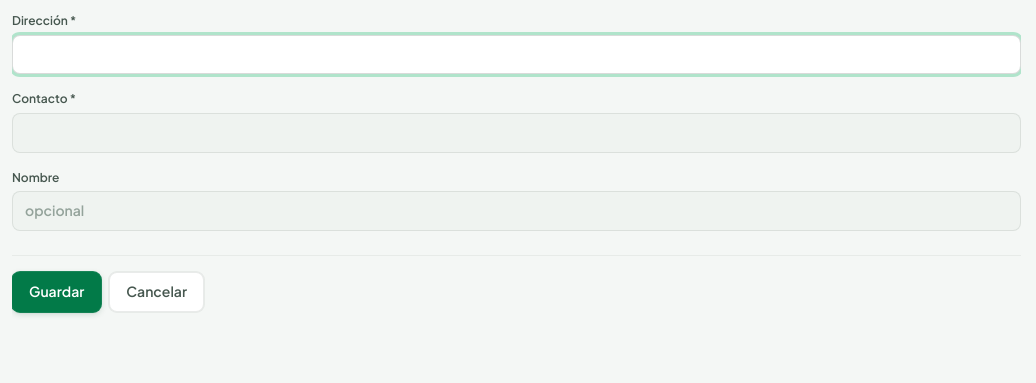
ClienteForm › exige dirección
What coordinates should you click on to do the following:
click the button "Guardar"
I would click on:
 (57, 292)
Its box is [12,272,101,312].
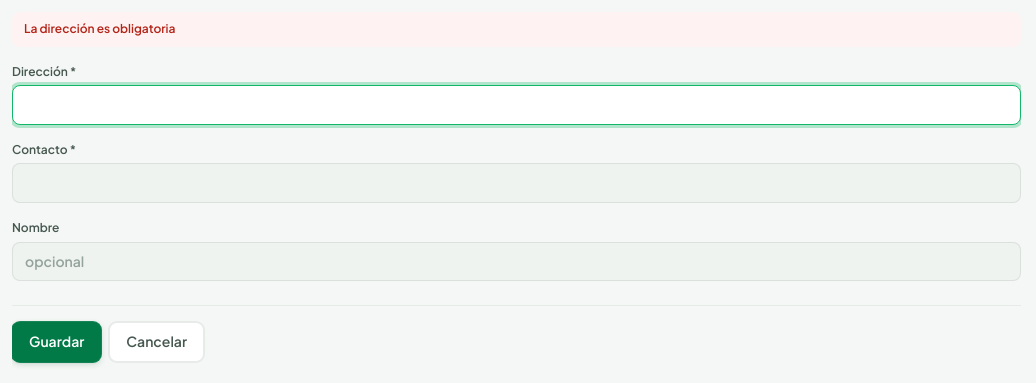
Check: the text "La dirección es obligatoria" is shown, box [12,12,1021,47]
